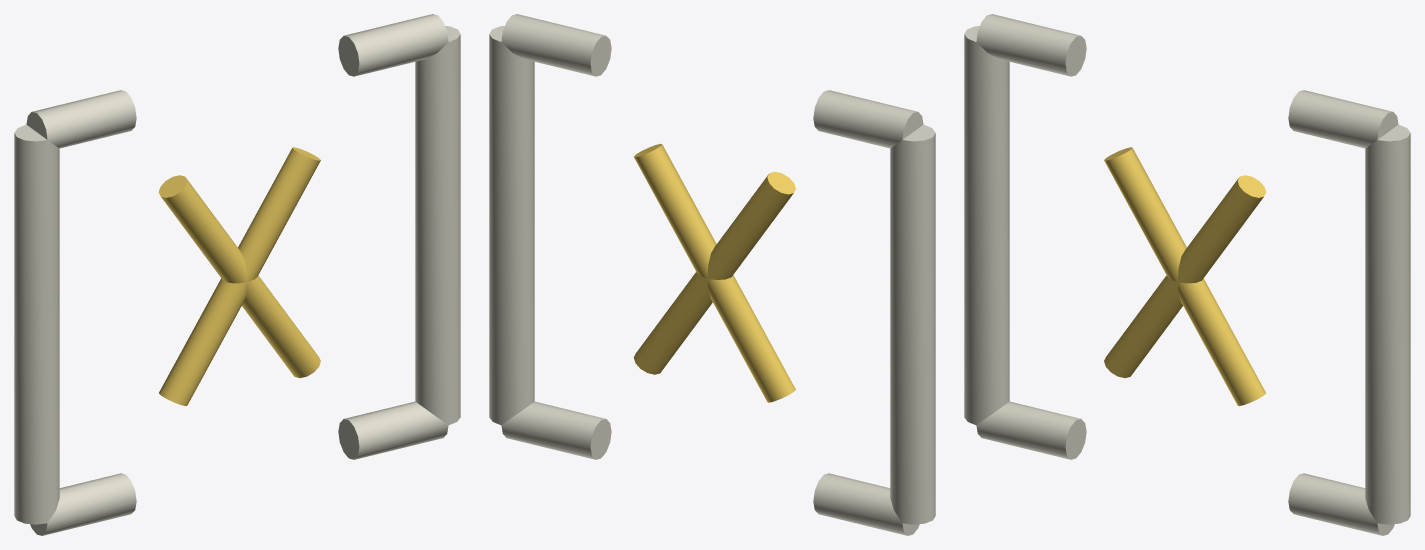
Rendered from round.glb.
The picture shows the model from 3 angles, left to right: view 1: azimuth 30°, elevation 25°; view 2: azimuth 150°, elevation 25°; view 3: azimuth 330°, elevation 25°; orthographic projection.
Size of the model in its own units: 23 by 21 by 1.91.
